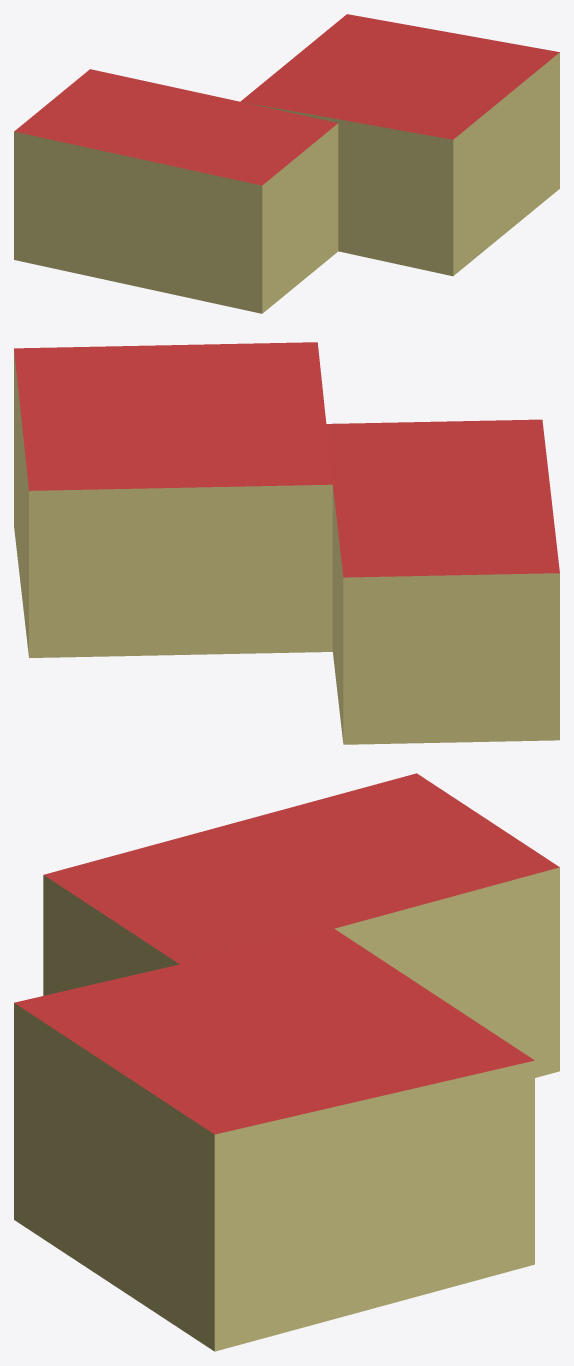
3 renders of one model, top to bottom at view 1: azimuth 30°, elevation 25°; view 2: azimuth 150°, elevation 25°; view 3: azimuth 270°, elevation 25°, orthographic. The views are drawn at different scales.
Size of the model in its own units: 20.29 by 12.51 by 5.49.
